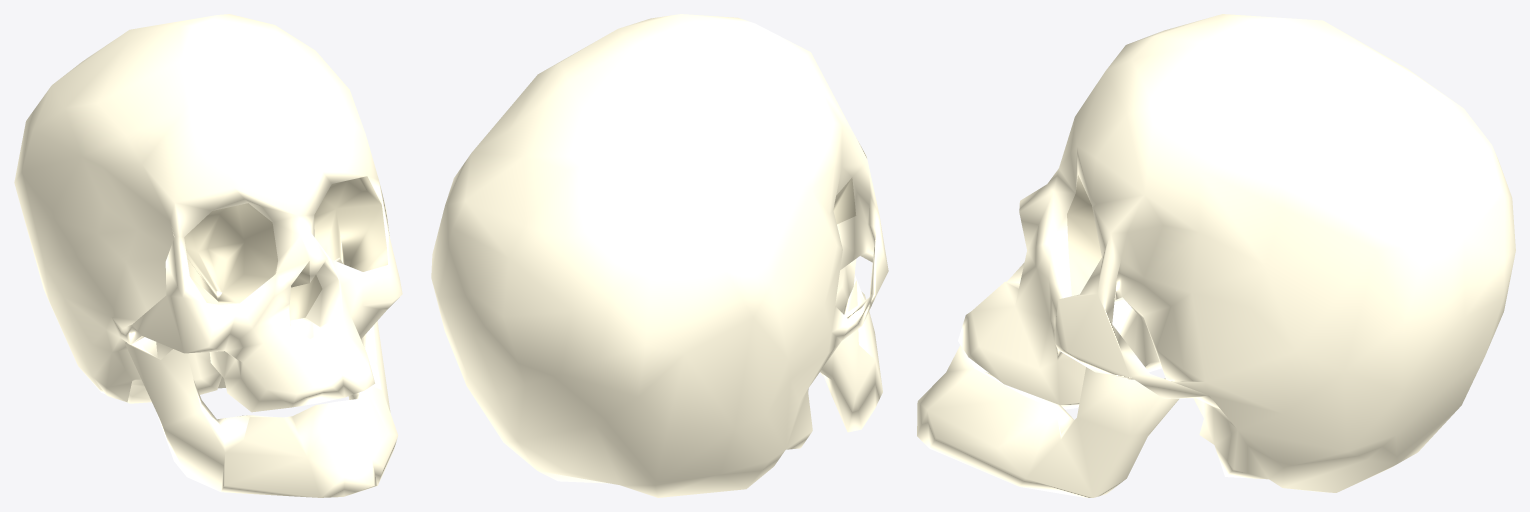
File: Skull02.glb
3 views of the same model, side by side, from view 1: azimuth 30°, elevation 25°; view 2: azimuth 150°, elevation 25°; view 3: azimuth 270°, elevation 25° (orthographic). The views are drawn at different scales.
Visible parts, largest first — view 1: Skull02; view 2: Skull02; view 3: Skull02.
Boxes of the visible parts, box(x1,y1,x2,y2) form: Skull02: box(14, 14, 402, 497); Skull02: box(431, 14, 888, 497); Skull02: box(917, 14, 1515, 497).
Size of what is drawn, in the model's own units: 0.2009 by 0.2517 by 0.313.
Materials: 1 (1 with a texture image).
